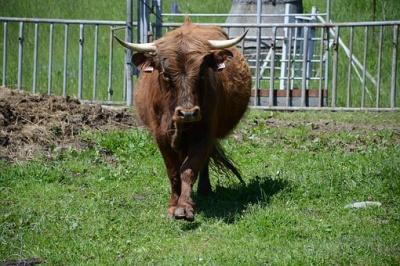buffalo: (116, 16, 251, 220)
